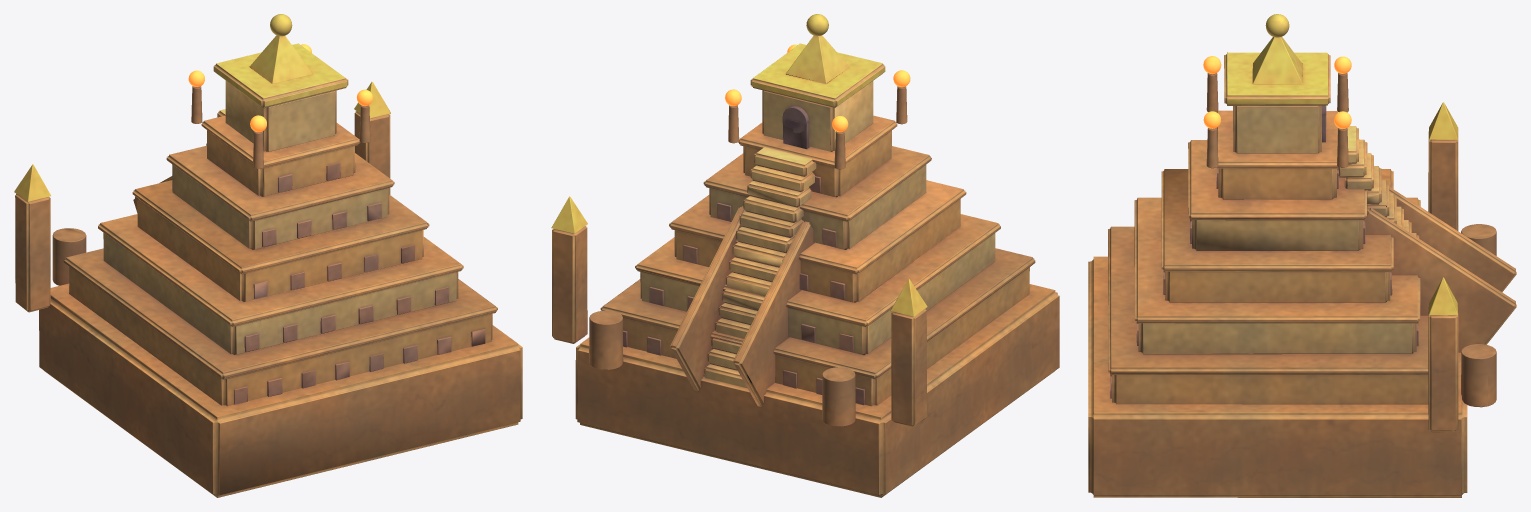
File: WM_PyramidTemple.fbx
3 views of the same model, side by side, from view 1: azimuth 30°, elevation 25°; view 2: azimuth 150°, elevation 25°; view 3: azimuth 270°, elevation 25° (orthographic). The views are drawn at different scales.
Visible parts, largest first — view 1: WM_PyramidTemple_LOD0; view 2: WM_PyramidTemple_LOD0; view 3: WM_PyramidTemple_LOD0.
Part boxes in pixels (x1,y1,x2,y2): WM_PyramidTemple_LOD0: (14, 14, 522, 497); WM_PyramidTemple_LOD0: (551, 14, 1059, 497); WM_PyramidTemple_LOD0: (1088, 14, 1516, 497).
Size of what is drawn, in the model's own units: 7.52 by 7.55 by 7.23.
